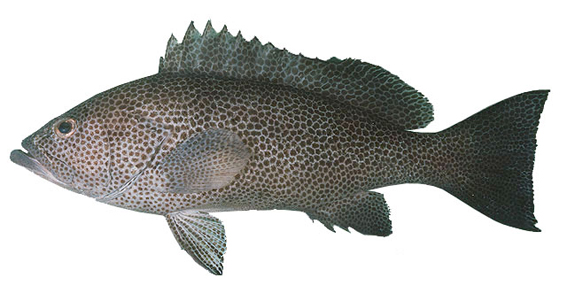fish: (10, 18, 552, 276)
